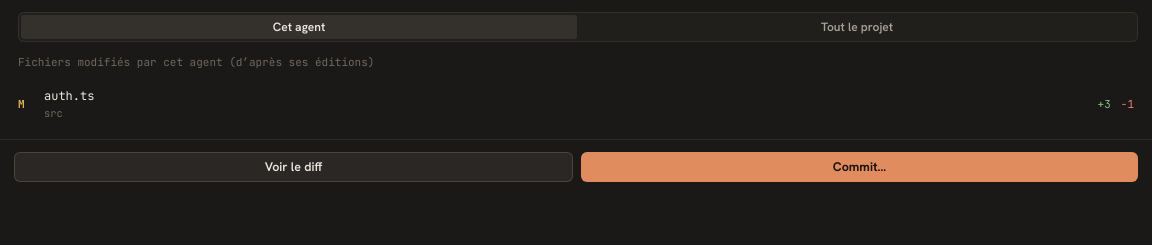
FilesPanel › lists the agent’s files, then the whole project with the owning agent
The image size is (1152, 245).
Expected: the text "auth.ts" is shown, [44,88,94,104]
What coordinates should you click on to do the following:
click the button "Tout le projet"
I would click on:
 (857, 27)
Its box is [579,15,1135,39].
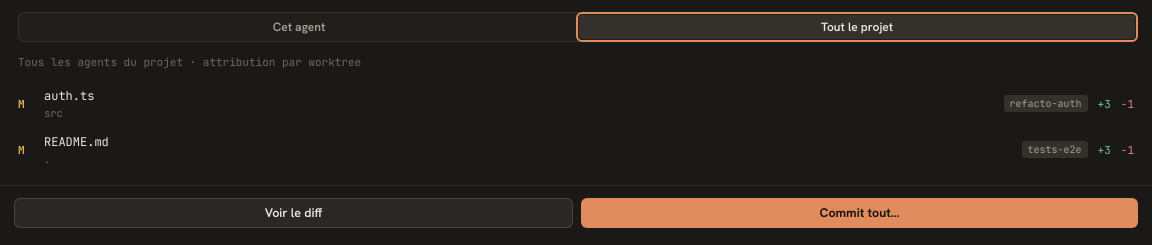
Now the text "README.md" is shown, box [44,134,109,150]
Now the text "tests-e2e" is shown, box [1022,141,1088,158]
